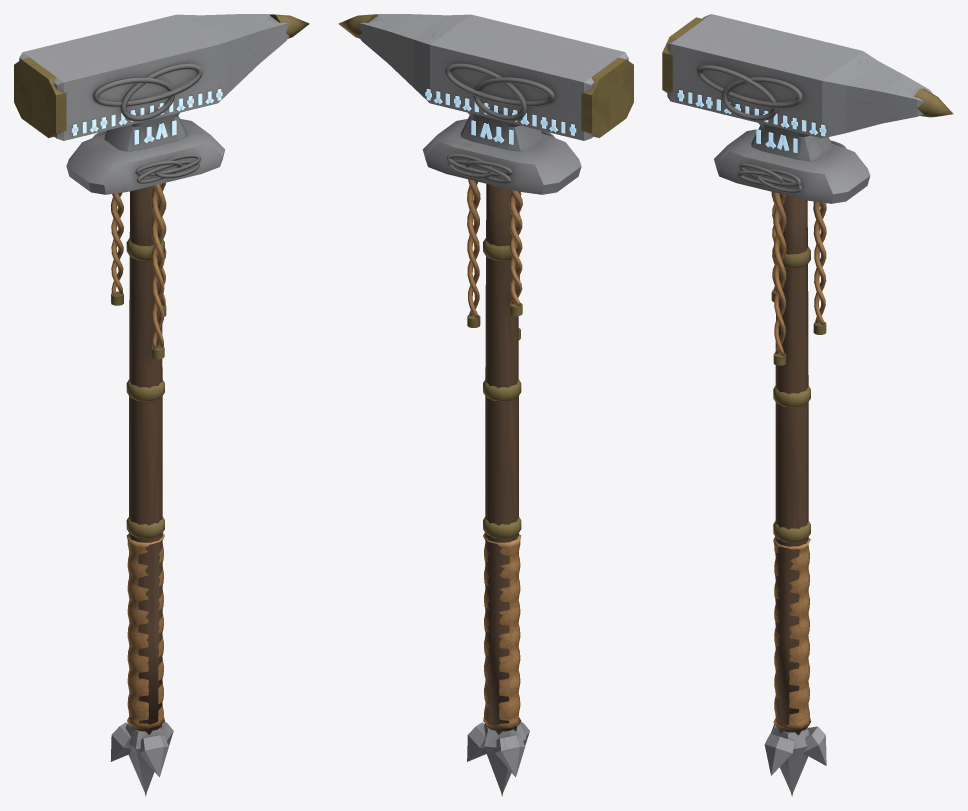
File: named-dwarven-thrower.glb
3 views of the same model, side by side, from view 1: azimuth 30°, elevation 25°; view 2: azimuth 150°, elevation 25°; view 3: azimuth 330°, elevation 25° (orthographic).
Visible parts, largest first — view 1: named-dwarven-thrower; view 2: named-dwarven-thrower; view 3: named-dwarven-thrower.
Boxes of the visible parts, x1=… form: named-dwarven-thrower: x1=14, y1=14, x2=309, y2=796; named-dwarven-thrower: x1=338, y1=14, x2=633, y2=796; named-dwarven-thrower: x1=662, y1=14, x2=953, y2=796.
Bounding box in the file's own units: 0.7767 × 2.04 × 0.2415.
1 material, 1 textured.
